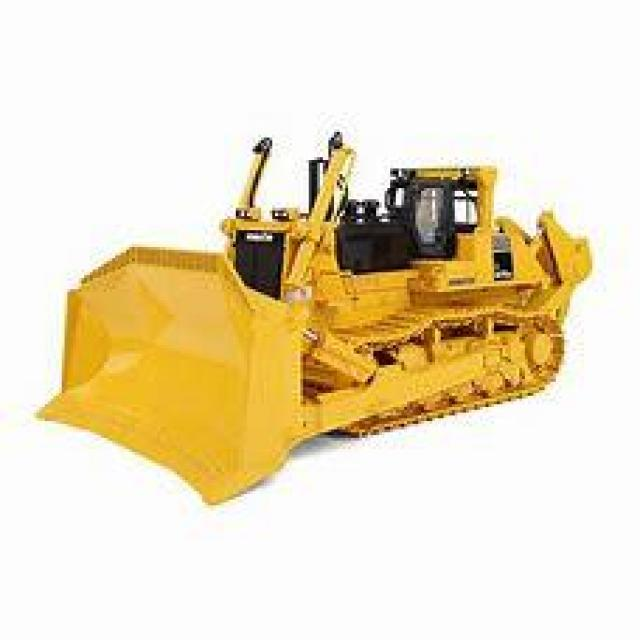Bulldozer: (42, 112, 584, 494)
